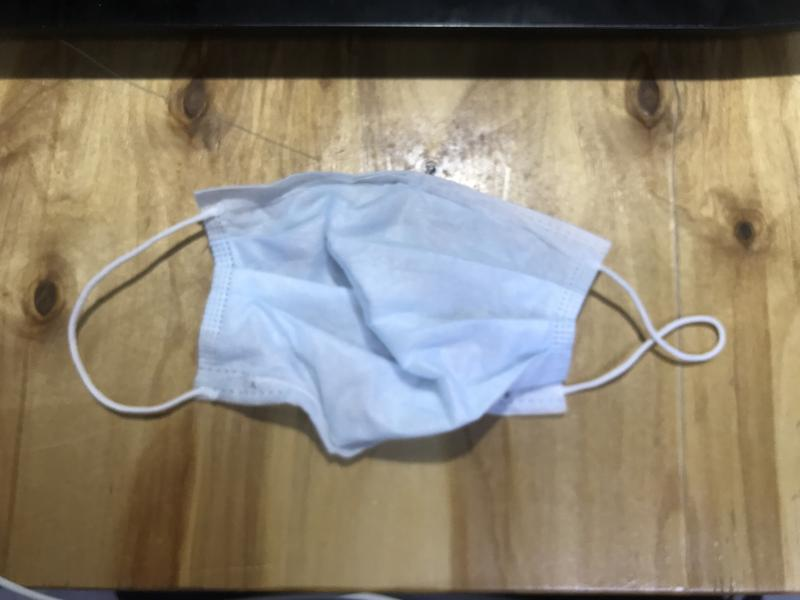medical_mask: (67, 173, 725, 465)
